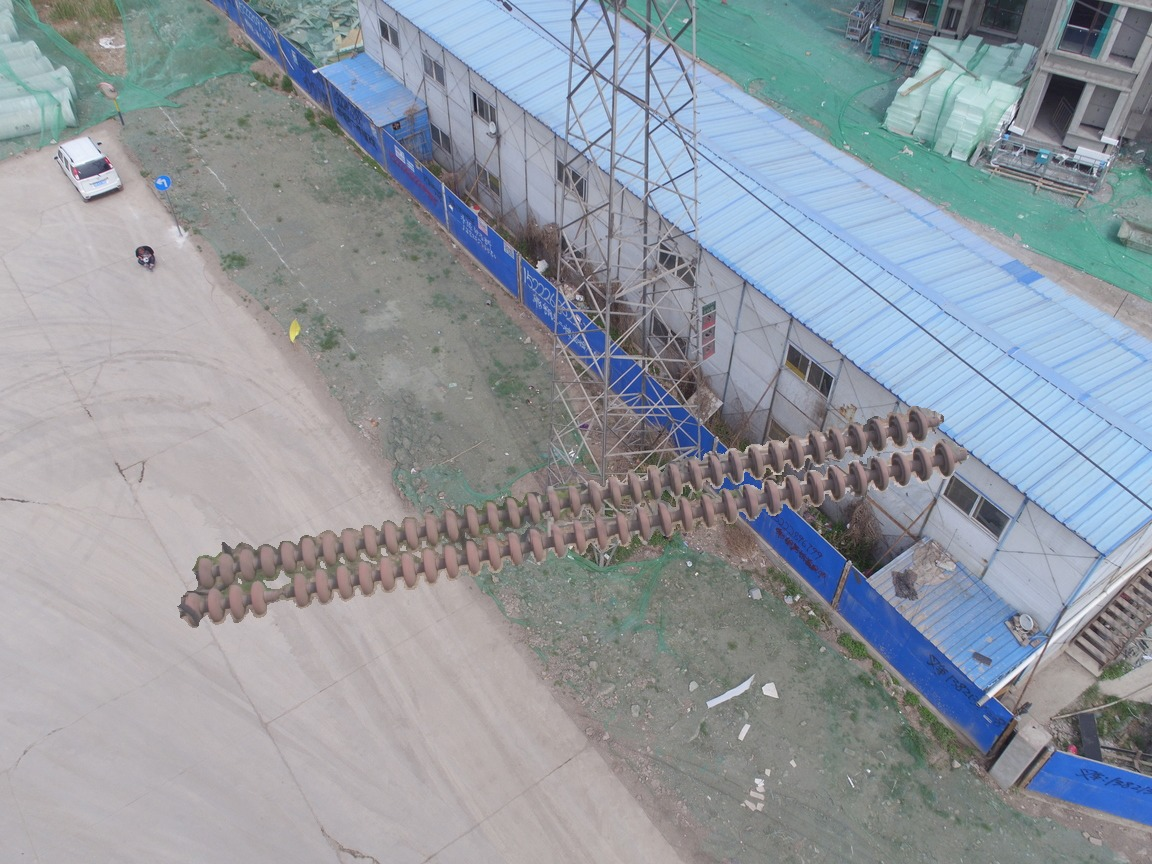defect: (244, 565, 312, 619)
